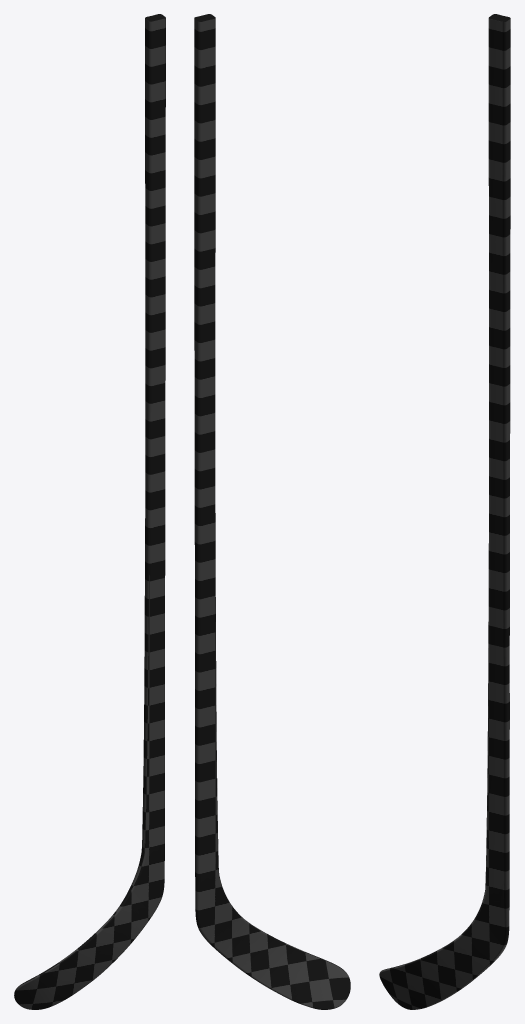
The model's file is P12-SBT.glb.
3 views of the same model, side by side, from view 1: azimuth 30°, elevation 25°; view 2: azimuth 210°, elevation 25°; view 3: azimuth 330°, elevation 25° (orthographic). The views are drawn at different scales.
Visible parts, largest first — view 1: geometry_0; view 2: geometry_0; view 3: geometry_0.
Part boxes in pixels (box(x1,y1,x2,y2)): geometry_0: box(14, 14, 165, 1009); geometry_0: box(194, 14, 350, 1009); geometry_0: box(379, 14, 510, 1009).
Size of the model in its own units: 240 by 1650 by 60.86.
Materials: 1 (1 with a texture image).
